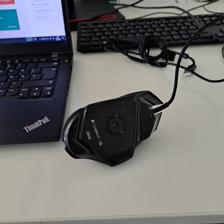mouse: (62, 89, 163, 167)
